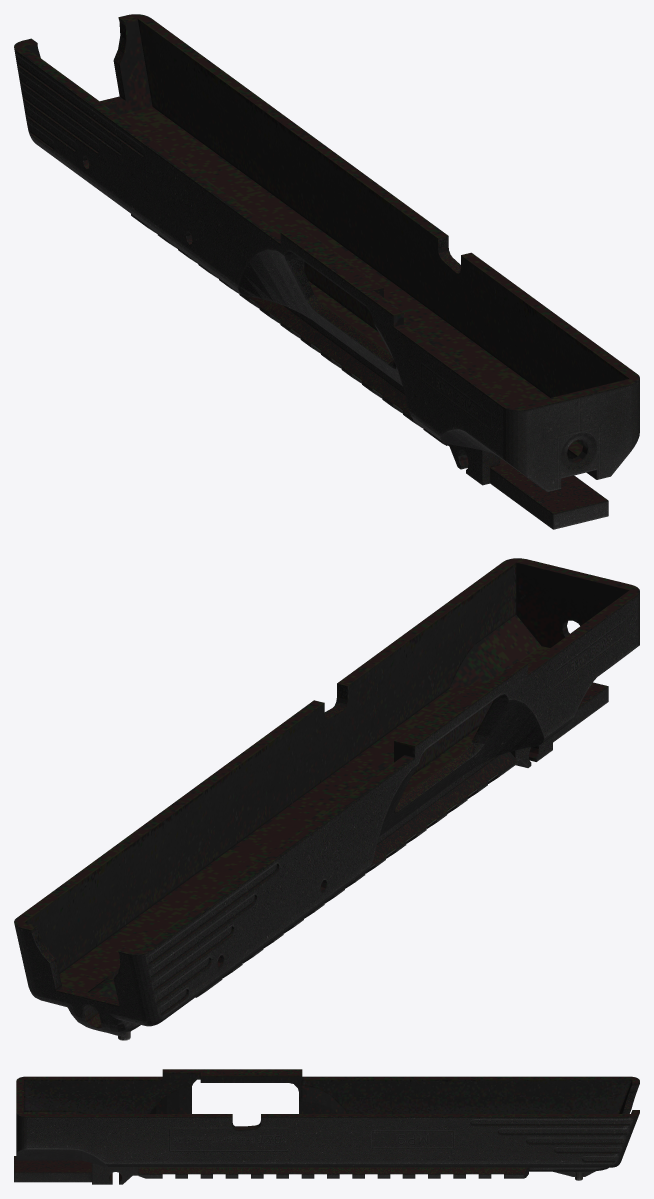
3 renders of one model, top to bottom at view 1: azimuth 30°, elevation 25°; view 2: azimuth 150°, elevation 25°; view 3: azimuth 270°, elevation 25°, orthographic. The views are drawn at different scales.
Parts seen in each view (by area): view 1: TW_5de8e67c4a9f347bc92edbd7_PZ_Import; view 2: TW_5de8e67c4a9f347bc92edbd7_PZ_Import; view 3: TW_5de8e67c4a9f347bc92edbd7_PZ_Import.
Part boxes in pixels (left/top/right/bottom): TW_5de8e67c4a9f347bc92edbd7_PZ_Import: left=14, top=14, right=639, bottom=529; TW_5de8e67c4a9f347bc92edbd7_PZ_Import: left=14, top=558, right=639, bottom=1040; TW_5de8e67c4a9f347bc92edbd7_PZ_Import: left=14, top=1069, right=639, bottom=1184.
Bounding box in the file's own units: 0.022 × 0.1431 × 0.0226.
1 material, 1 textured.
